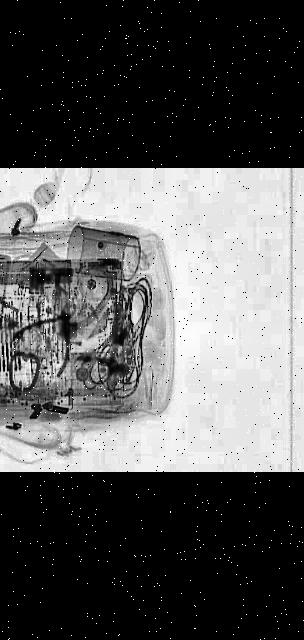Pliers: (0, 300, 110, 375)
